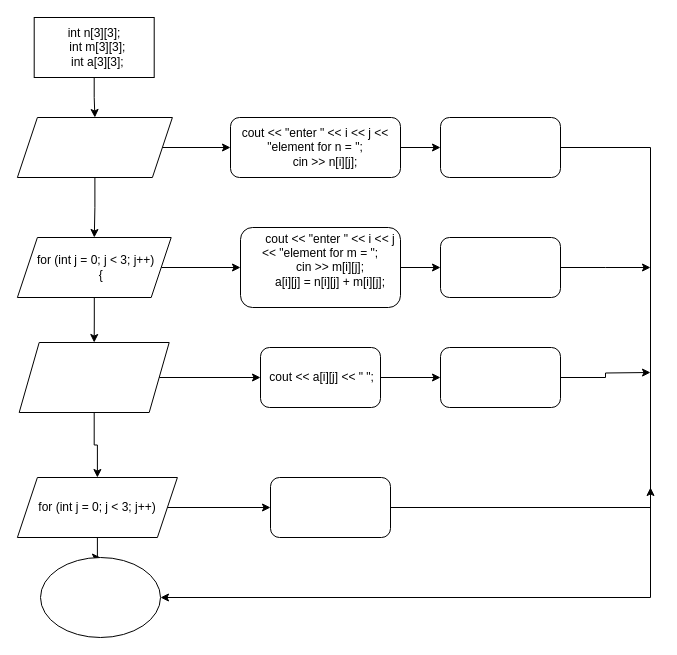
The diagram is 677 pixels wide and 655 high, and some of its shapes have lost their labels. The box of each missing label's shape, as (x1, y1, x2, y2) in pixels:
cout << endl;: (270, 476, 390, 538)
for (int i = 0; i < 3; i++): (18, 342, 169, 412)
for (int i = 0; i < 3; i++) {: (16, 116, 172, 178)
